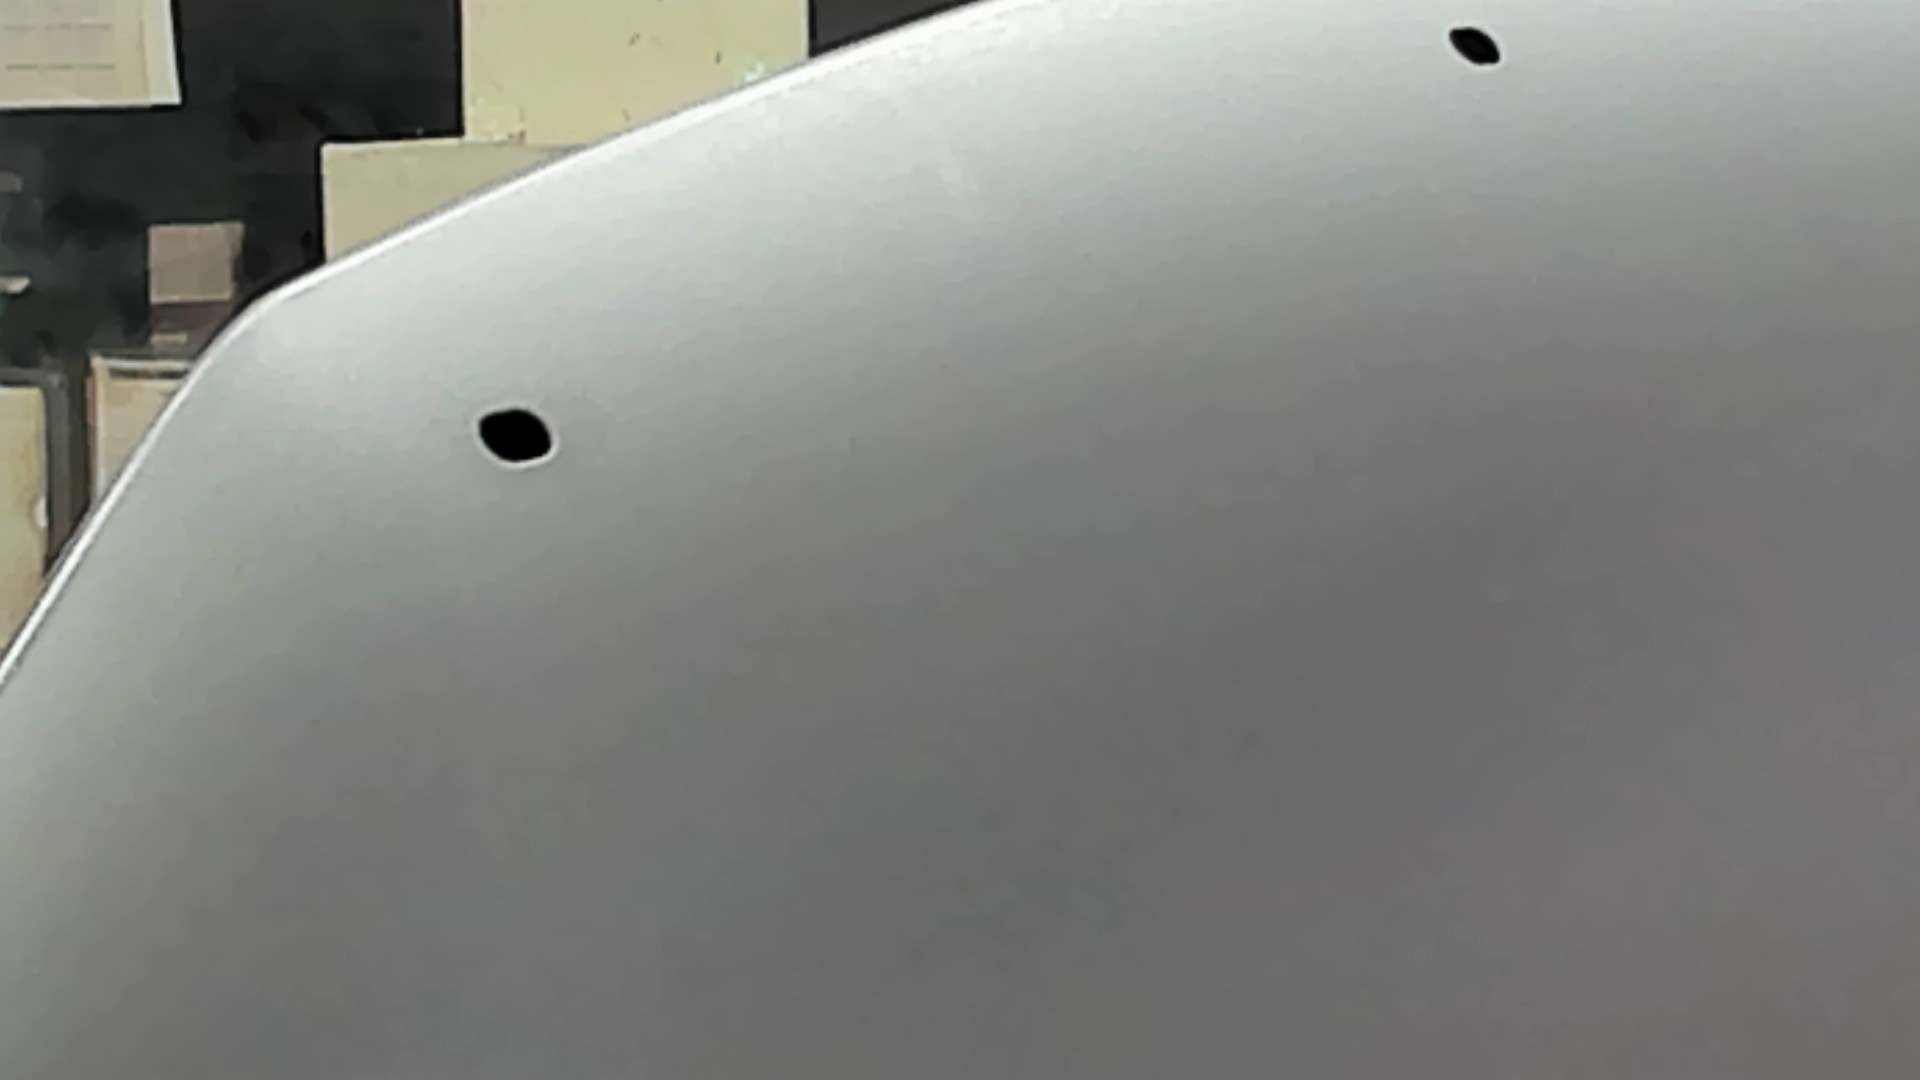chico: (465, 405, 564, 472), (1443, 22, 1507, 76)
